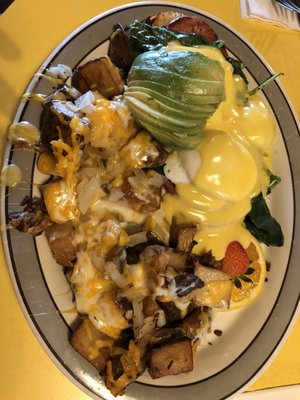curry: (2, 0, 300, 304)
